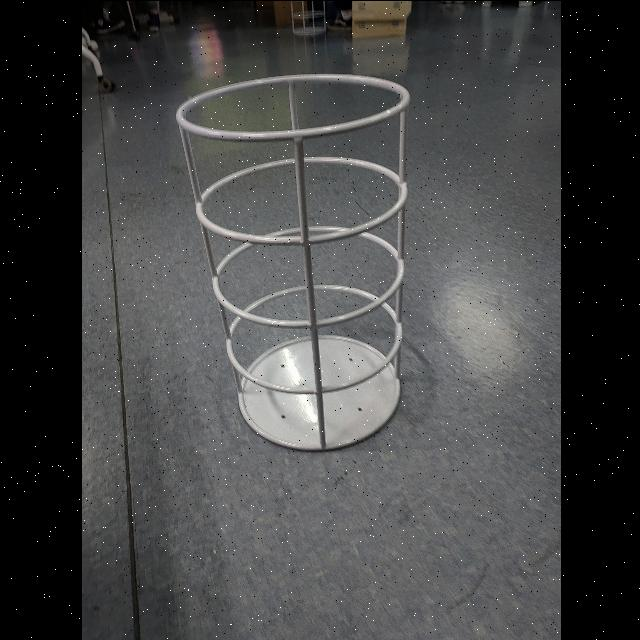S: (168, 68, 416, 456)
